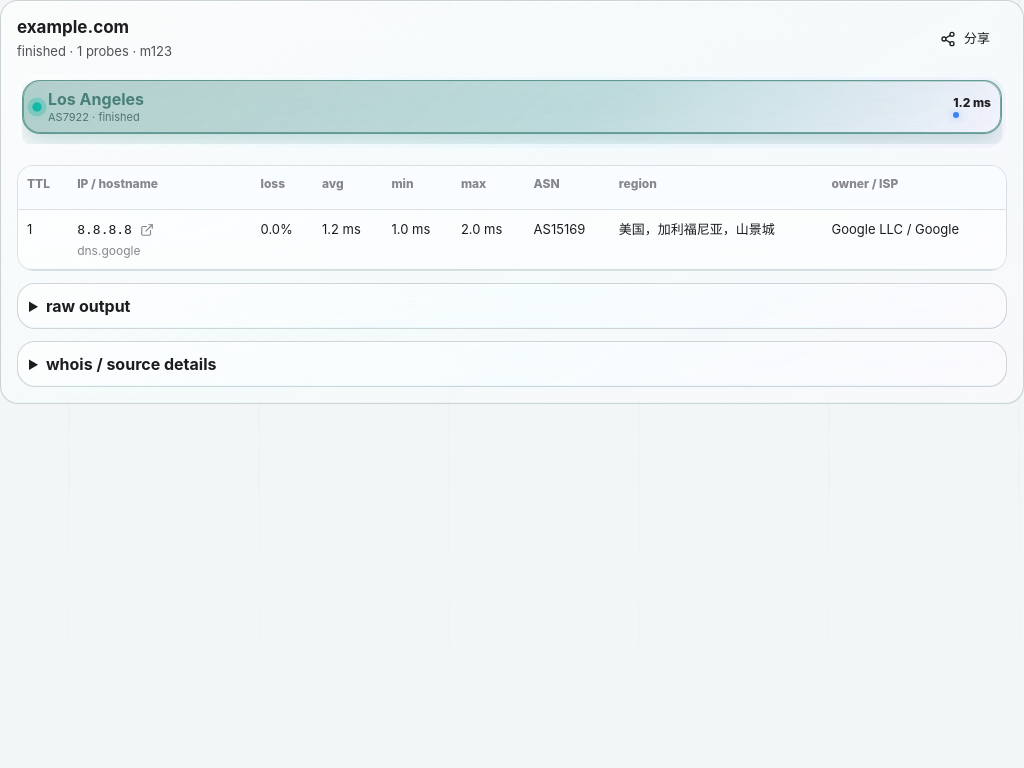
Scenario: ResultsView › renders raw and whois detail payloads
Click the heading "raw output": coordinates (88, 306) [46, 296, 130, 316]
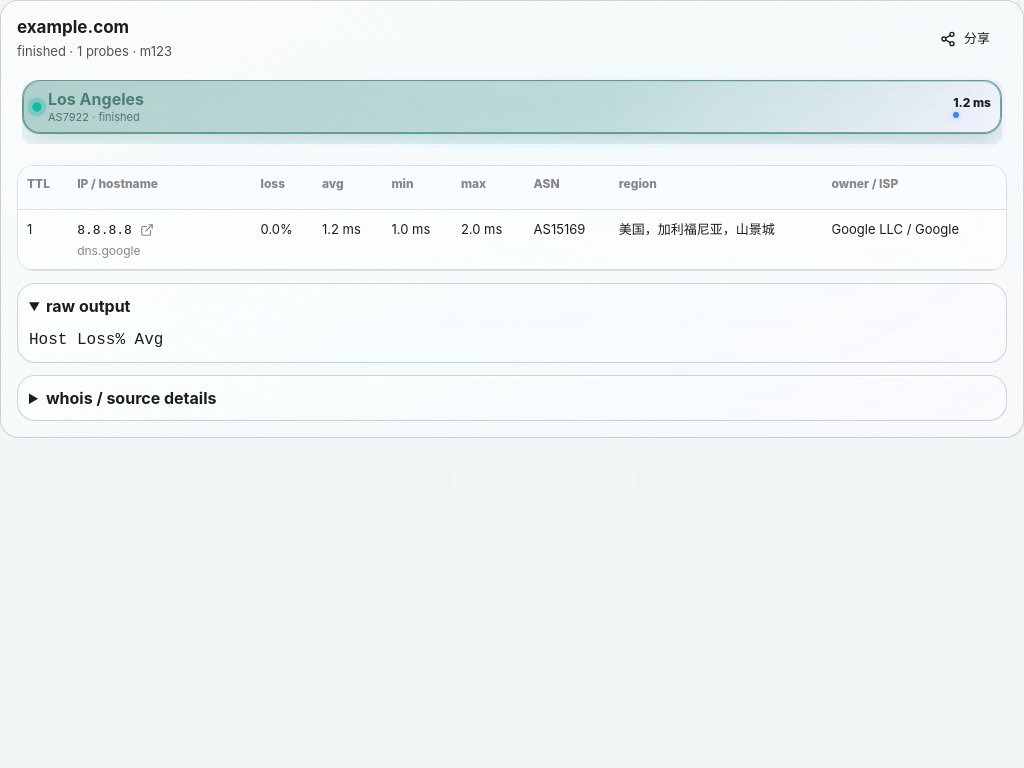
Click the heading "whois / source details": coordinates (131, 398) [46, 388, 216, 408]
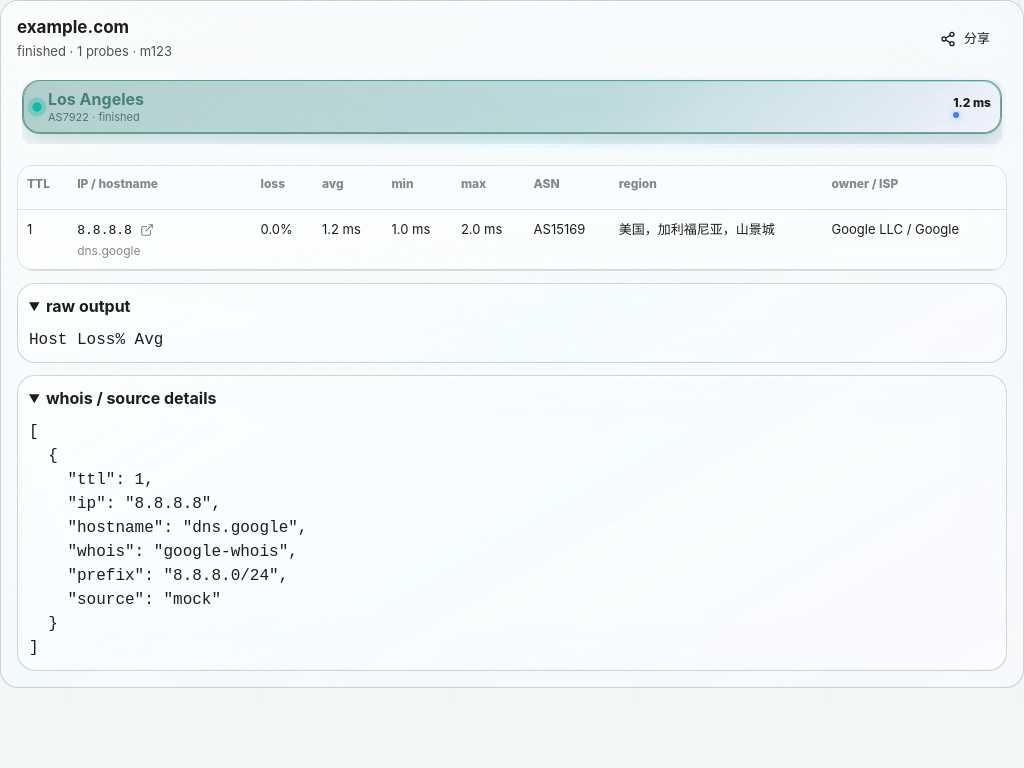
Check: the text "Host Loss% Avg" is shown, box [29, 331, 163, 349]
Check: the text "\"source\": \"mock\"" is shown, box [29, 423, 308, 657]
